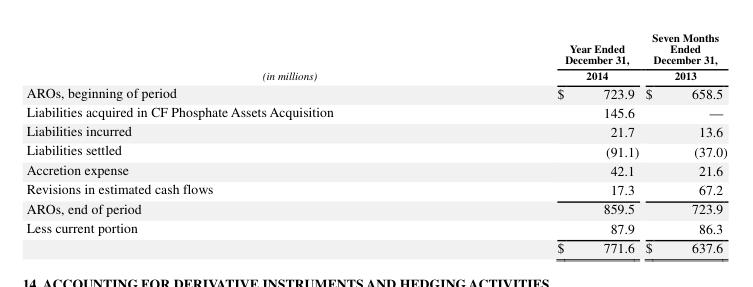table: (25, 29, 726, 256)
table column: (25, 29, 444, 256), (444, 29, 641, 256), (641, 29, 726, 256)
table column header: (25, 29, 726, 82)
table row: (25, 29, 726, 82), (25, 120, 726, 140), (25, 178, 726, 198), (25, 217, 726, 237), (25, 82, 726, 101), (25, 101, 726, 120), (25, 140, 726, 159), (25, 159, 726, 178), (25, 198, 726, 217), (25, 237, 726, 256)
